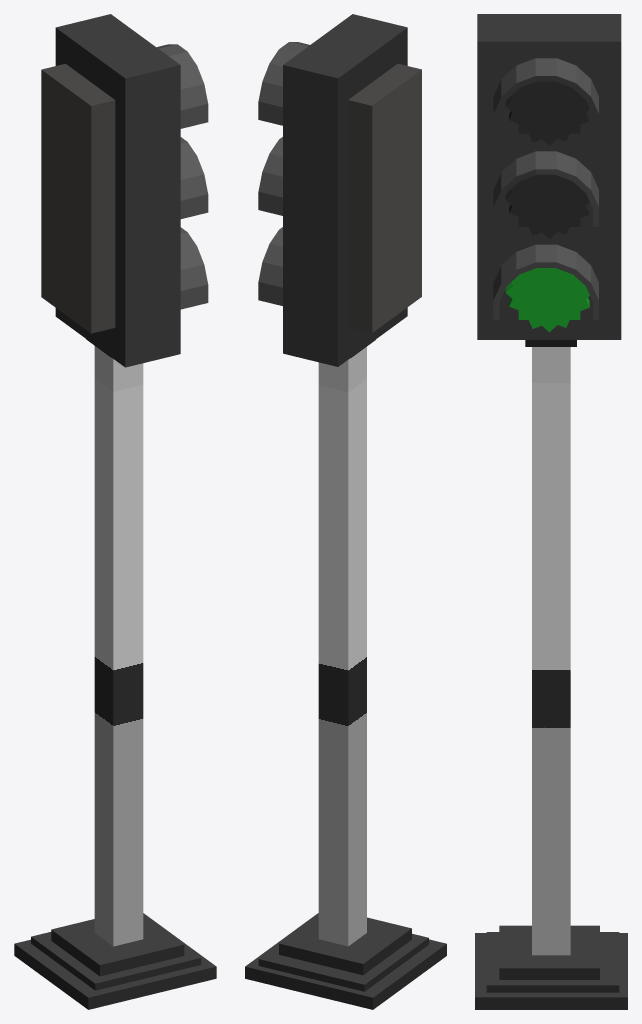
The model's file is green_light.glb.
3 renders of one model, left to right at view 1: azimuth 30°, elevation 25°; view 2: azimuth 150°, elevation 25°; view 3: azimuth 270°, elevation 25°, orthographic. The views are drawn at different scales.
Parts seen in each view (by area): view 1: cube_98, cube_77, cube_94, cube_95, cube_97, cube_96, hexadecagon_71, hexadecagon_62, hexadecagon_53, hexadecagon_54, hexadecagon_72, hexadecagon_63; view 2: cube_98, cube_77, cube_94, cube_97, cube_95, cube_96, hexadecagon_59, hexadecagon_50, hexadecagon_68, hexadecagon_58, hexadecagon_76, hexadecagon_67; view 3: cube_77, cube_98, cube_97, cube_95, cube_96, cube_82, cube_92, cube_87, hexadecagon_56, hexadecagon_74, hexadecagon_65, hexadecagon_55 (+11 smaller).
Boxes of the visible parts, bbox=[...] form: cube_98: bbox=[94, 346, 143, 946]; cube_77: bbox=[55, 14, 180, 367]; cube_94: bbox=[41, 63, 115, 333]; cube_95: bbox=[14, 913, 216, 1009]; cube_97: bbox=[51, 915, 184, 976]; cube_96: bbox=[31, 932, 201, 990]; hexadecagon_71: bbox=[180, 174, 207, 200]; hexadecagon_62: bbox=[180, 84, 207, 110]; hexadecagon_53: bbox=[180, 264, 207, 290]; hexadecagon_54: bbox=[180, 284, 208, 309]; hexadecagon_72: bbox=[180, 194, 208, 218]; hexadecagon_63: bbox=[180, 104, 208, 128]; cube_98: bbox=[318, 347, 366, 946]; cube_77: bbox=[283, 14, 407, 366]; cube_94: bbox=[348, 63, 421, 332]; cube_97: bbox=[279, 914, 411, 975]; cube_95: bbox=[245, 913, 446, 1009]; cube_96: bbox=[258, 933, 428, 991]; hexadecagon_59: bbox=[258, 81, 282, 107]; hexadecagon_50: bbox=[258, 262, 282, 287]; hexadecagon_68: bbox=[258, 172, 282, 197]; hexadecagon_58: bbox=[258, 282, 282, 305]; hexadecagon_76: bbox=[258, 191, 282, 215]; hexadecagon_67: bbox=[258, 101, 282, 125]; cube_77: bbox=[477, 14, 621, 339]; cube_98: bbox=[532, 347, 570, 955]; cube_97: bbox=[499, 925, 599, 979]; cube_95: bbox=[475, 933, 627, 1009]; cube_96: bbox=[486, 932, 619, 992]; cube_82: bbox=[505, 174, 589, 238]; cube_92: bbox=[505, 81, 589, 145]; cube_87: bbox=[505, 268, 589, 332]; hexadecagon_56: bbox=[535, 244, 556, 267]; hexadecagon_74: bbox=[535, 151, 556, 174]; hexadecagon_65: bbox=[535, 58, 556, 81]; hexadecagon_55: bbox=[554, 245, 576, 274].
Size of the model in its own units: 0.1486 by 1.02 by 0.148.
1 material, 1 textured.
